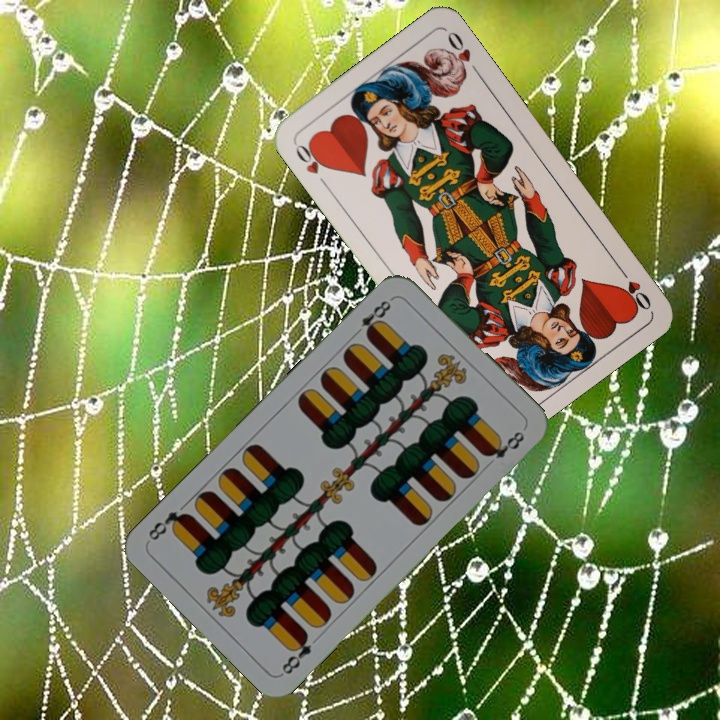E8: (349, 294, 396, 341), (277, 628, 314, 678)
HO: (290, 138, 332, 190), (613, 261, 654, 313)
